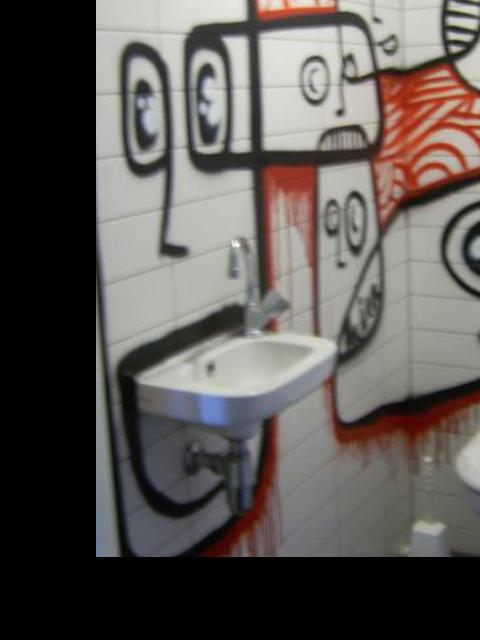Lavamanos: (131, 243, 359, 557)
Sanitario: (443, 407, 480, 608)
